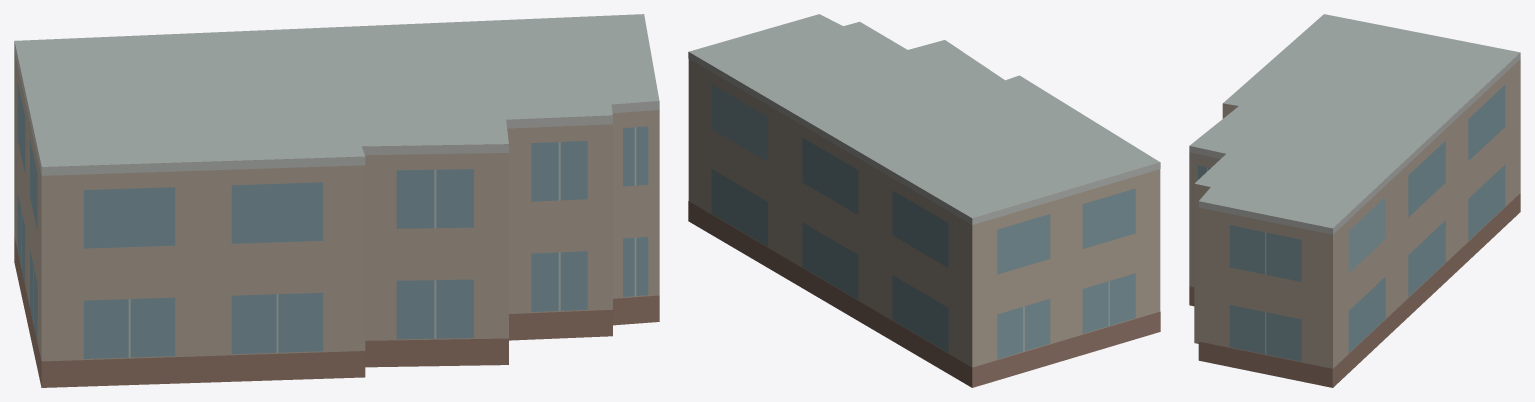
The model's file is survey-upis-32662861.glb.
The picture shows the model from 3 angles, left to right: view 1: azimuth 30°, elevation 25°; view 2: azimuth 150°, elevation 25°; view 3: azimuth 270°, elevation 25°; orthographic projection. The views are drawn at different scales.
Visible parts, largest first — view 1: survey-upis-32662861.tmp; view 2: survey-upis-32662861.tmp; view 3: survey-upis-32662861.tmp.
Boxes of the visible parts, left/top/right/bottom form: survey-upis-32662861.tmp: left=14, top=14, right=659, bottom=387; survey-upis-32662861.tmp: left=688, top=14, right=1160, bottom=387; survey-upis-32662861.tmp: left=1189, top=14, right=1520, bottom=387.
Bounding box in the file's own units: 17.6 × 6.1 × 11.5.
